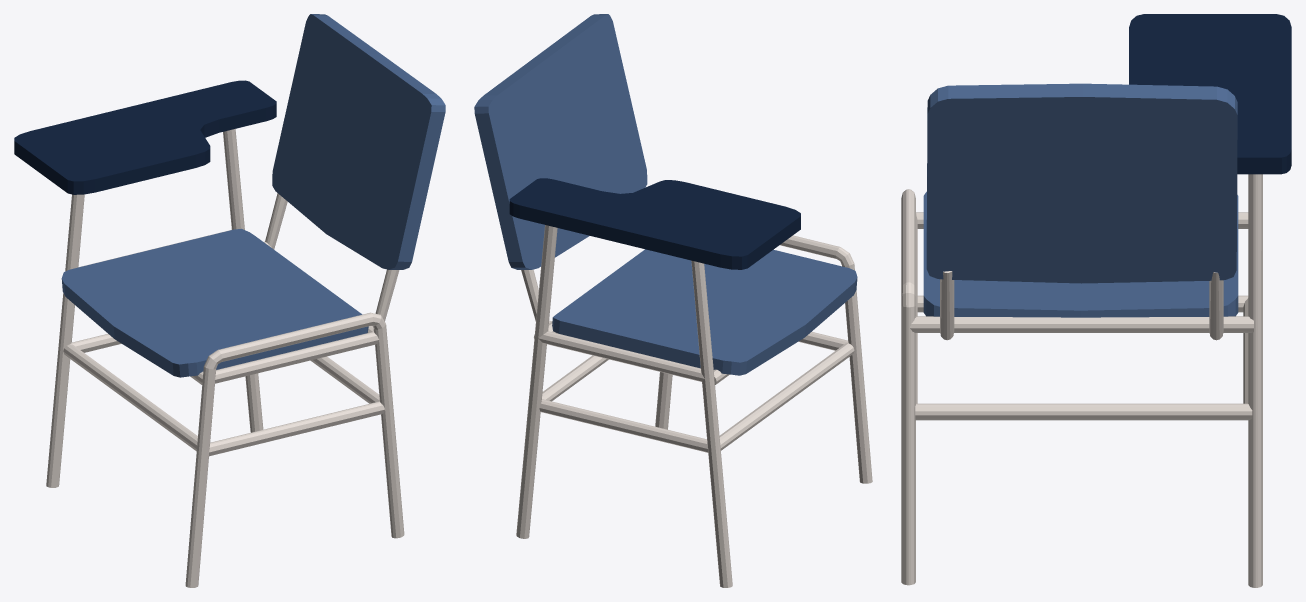
The model's file is carteira_sala.fbx.
The picture shows the model from 3 angles, left to right: view 1: azimuth 30°, elevation 25°; view 2: azimuth 150°, elevation 25°; view 3: azimuth 270°, elevation 25°; orthographic projection. The views are drawn at different scales.
Visible parts, largest first — view 1: Carteira_sala.001; view 2: Carteira_sala.001; view 3: Carteira_sala.001.
Boxes of the visible parts, x1=… form: Carteira_sala.001: x1=14, y1=14, x2=445, y2=587; Carteira_sala.001: x1=474, y1=14, x2=872, y2=587; Carteira_sala.001: x1=901, y1=14, x2=1291, y2=587.
Size of the model in its own units: 75.71 by 105 by 70.67.
